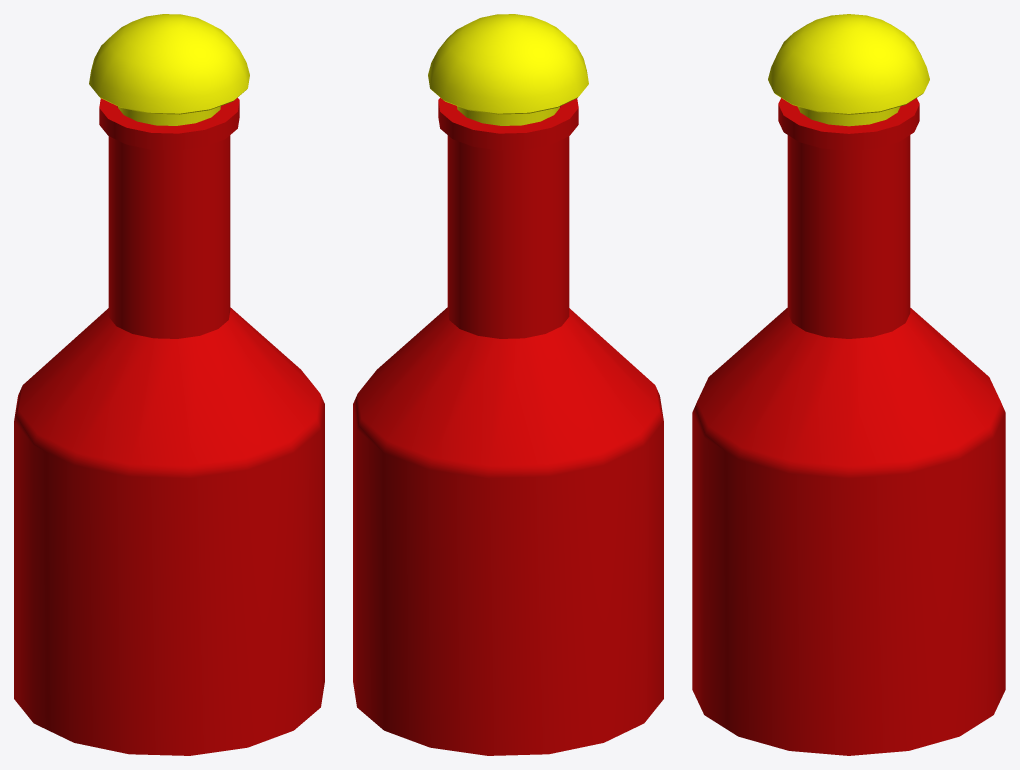
File: Abbie - ChemicalBottle2Blue.fbx
3 renders of one model, left to right at view 1: azimuth 30°, elevation 25°; view 2: azimuth 150°, elevation 25°; view 3: azimuth 270°, elevation 25°, orthographic.
Parts seen in each view (by area): view 1: bottle2; view 2: bottle2; view 3: bottle2.
Part boxes in pixels (box(x1,y1,x2,y2)): bottle2: box(14, 14, 324, 755); bottle2: box(353, 14, 663, 755); bottle2: box(692, 14, 1005, 755).
Bounding box in the file's own units: 6.51 × 15.32 × 6.51.
